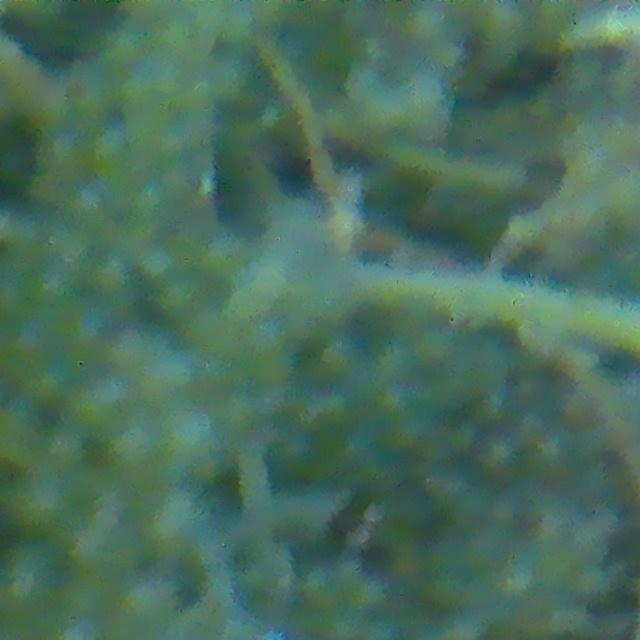SeaGrape: (162, 404, 223, 470), (120, 571, 181, 630), (0, 544, 54, 606), (108, 418, 161, 473), (143, 347, 195, 400), (82, 251, 131, 304), (65, 187, 110, 240), (24, 264, 70, 309), (90, 129, 129, 182), (67, 313, 105, 348), (136, 249, 171, 283)
